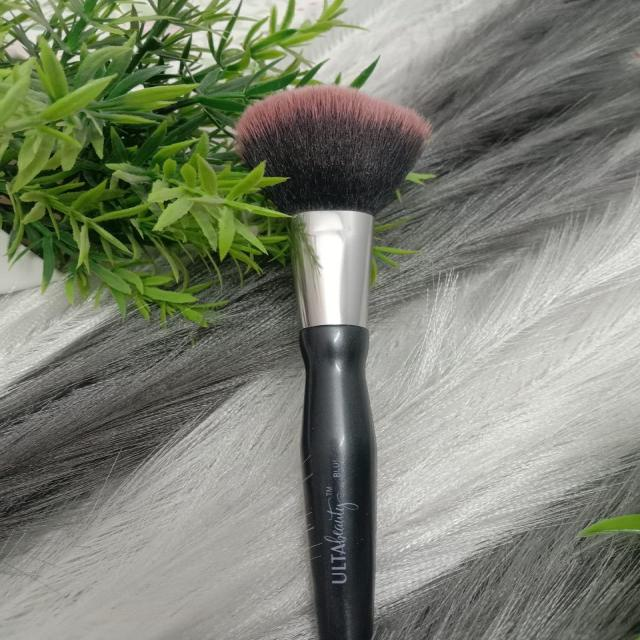brush: (220, 75, 447, 640)
